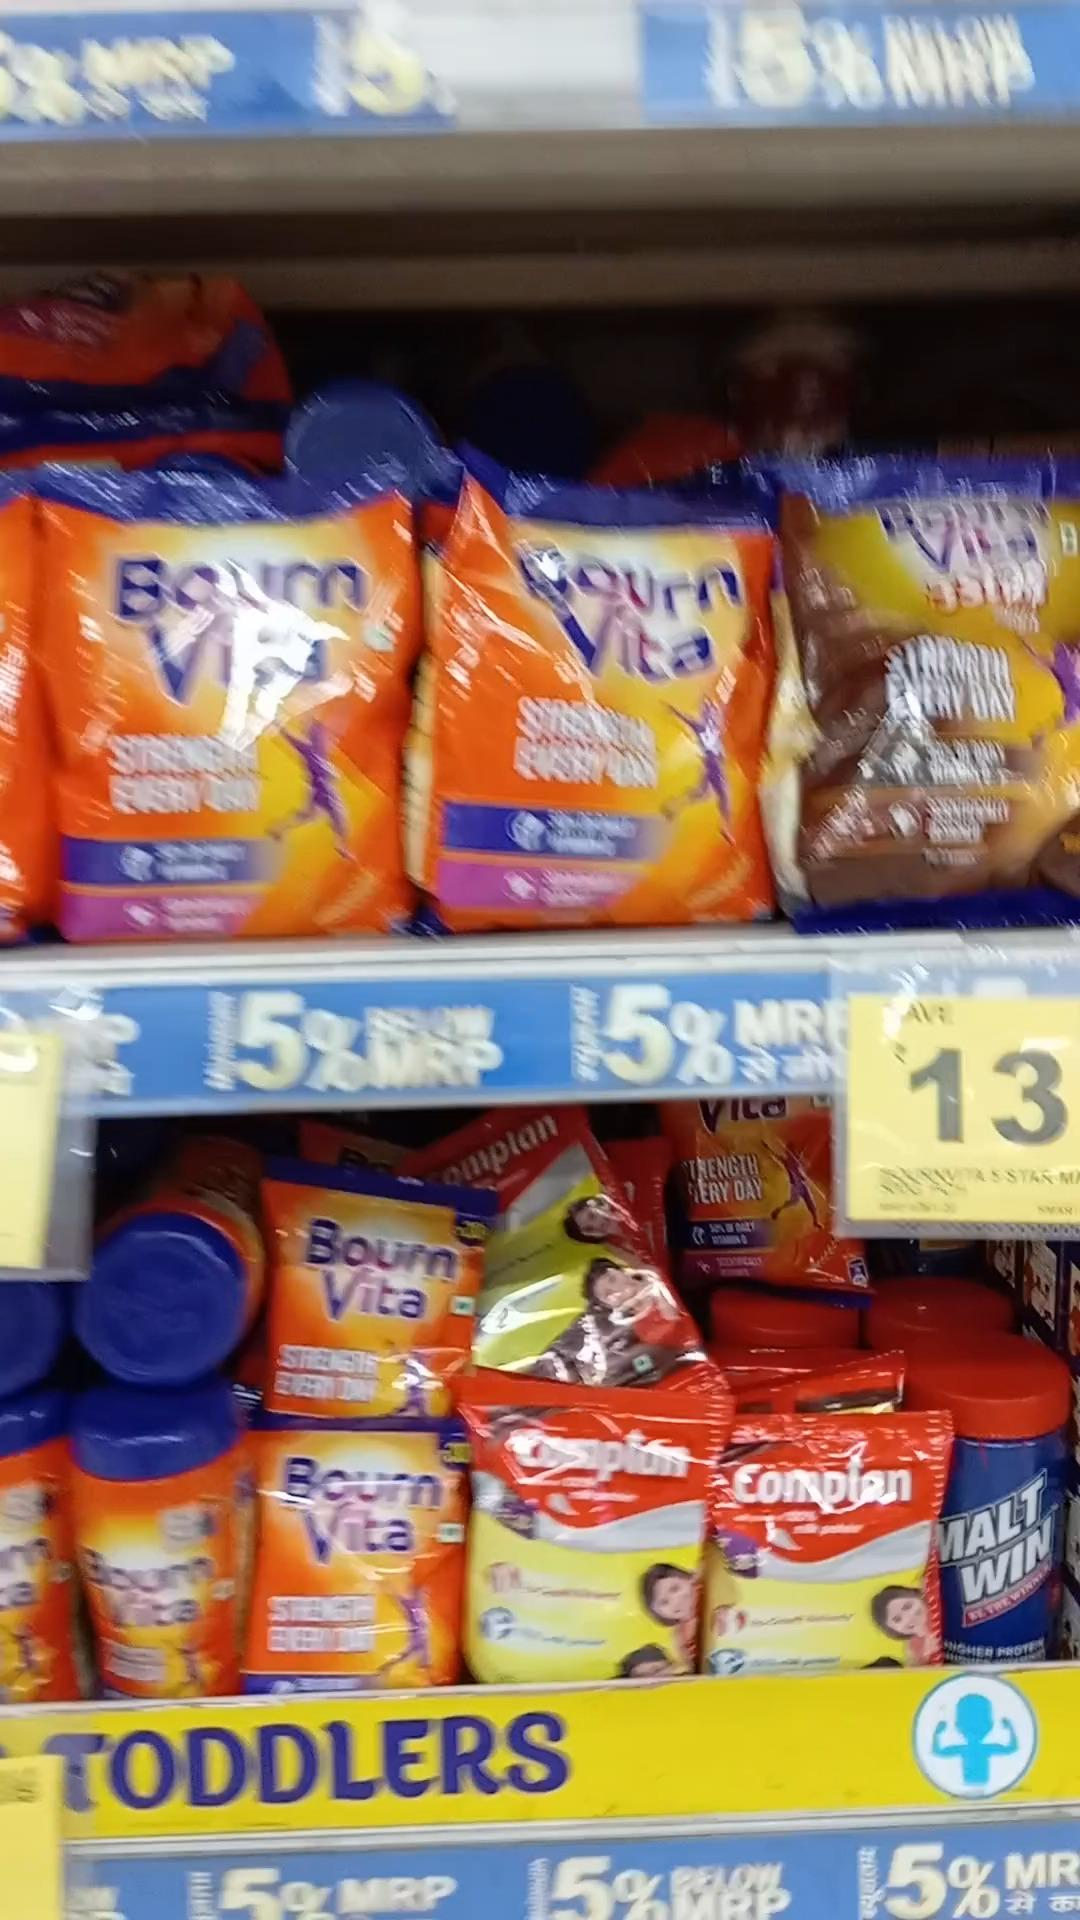BOURN_VITA_200_G_JAR: (82, 1404, 237, 1702)
BOURN_VITA_500_G_POUCH: (40, 462, 400, 934), (427, 442, 761, 918)
BOURN_VITA_75_G_POUCH: (261, 1419, 455, 1701)
BOURN_VITA_FIVE_STAR_MAGIC_500_G_POUCH: (781, 455, 1080, 919)
